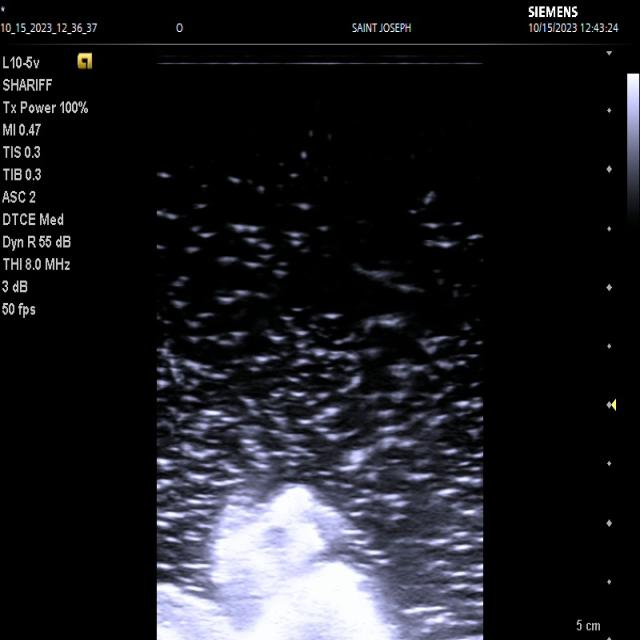tissue: (157, 484, 400, 640)
